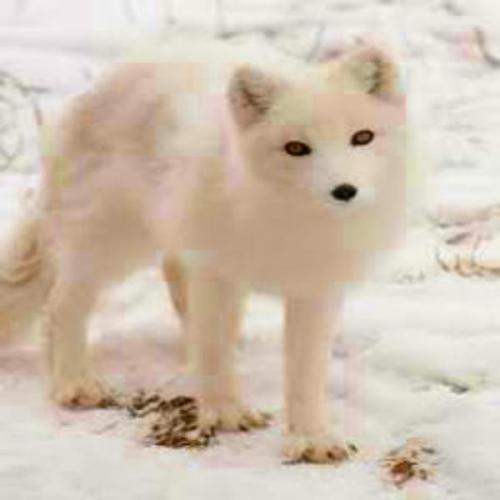arctic_fox-endangered: (26, 52, 403, 424)
